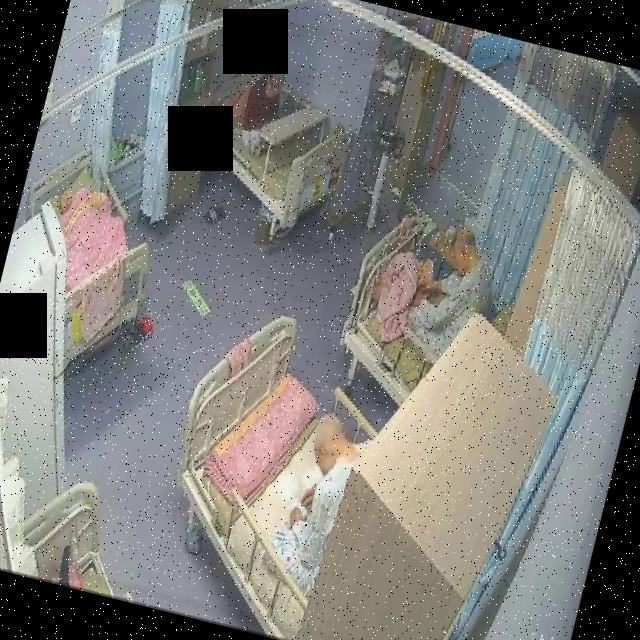bed: (138, 300, 403, 640), (0, 138, 179, 380), (330, 210, 502, 420), (186, 52, 362, 240)
patient: (260, 400, 372, 602), (398, 216, 504, 378), (234, 61, 296, 162)
sit: (355, 202, 506, 370), (258, 398, 374, 603), (234, 62, 295, 160)
